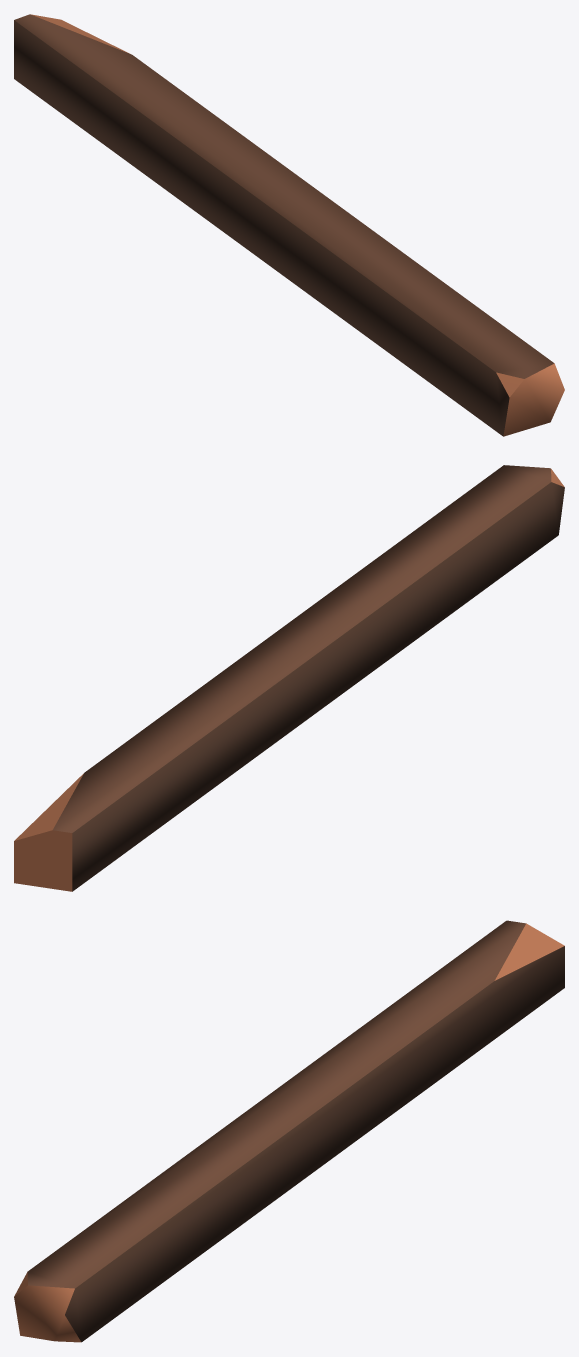
Rendered from Tree_Log_2F.fbx.
The picture shows the model from 3 angles, top to bottom: view 1: azimuth 30°, elevation 25°; view 2: azimuth 150°, elevation 25°; view 3: azimuth 330°, elevation 25°; orthographic projection.
Parts seen in each view (by area): view 1: Tree_Log_2F; view 2: Tree_Log_2F; view 3: Tree_Log_2F.
Boxes of the visible parts, x1,y1,x2,y2 form: Tree_Log_2F: (14, 14, 564, 436); Tree_Log_2F: (14, 465, 564, 891); Tree_Log_2F: (14, 920, 564, 1342).
Size of the model in its own units: 0.2147 by 0.2254 by 3.48.
